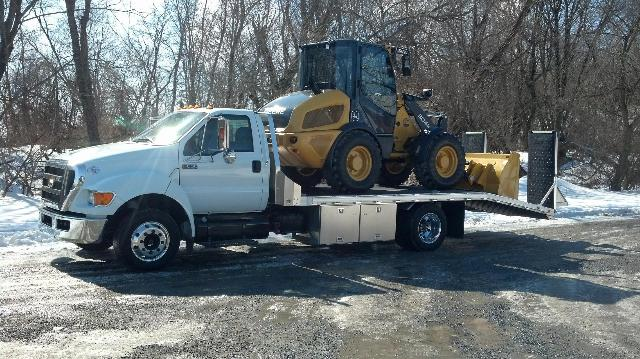truck: (11, 93, 604, 296)
